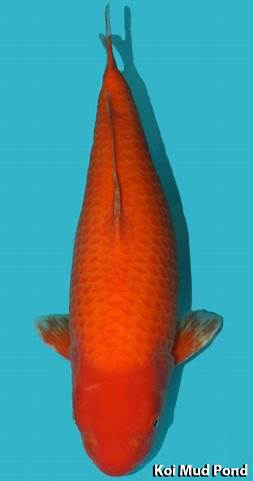red: (38, 5, 222, 476)
